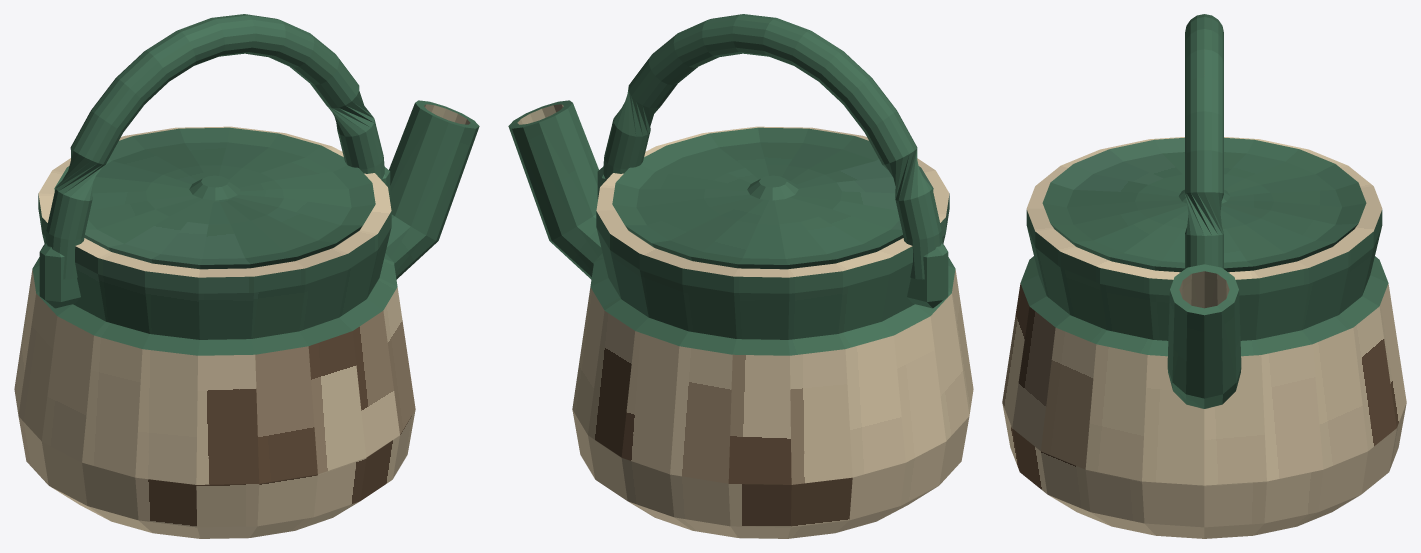
Rendered from antique-oribe-ewer.glb.
3 renders of one model, left to right at view 1: azimuth 30°, elevation 25°; view 2: azimuth 150°, elevation 25°; view 3: azimuth 270°, elevation 25°, orthographic.
Visible parts, largest first — view 1: antique-oribe-ewer/vessel-3, antique-oribe-ewer/bail-handle, antique-oribe-ewer/lid-4, antique-oribe-ewer/vessel-2, antique-oribe-ewer/vessel-5, antique-oribe-ewer/spout-outer, antique-oribe-ewer/lid-3, antique-oribe-ewer/vessel-4, antique-oribe-ewer/lid-5, antique-oribe-ewer/vessel-6, antique-oribe-ewer/vessel-7, antique-oribe-ewer/vessel-1 (+3 smaller); view 2: antique-oribe-ewer/vessel-3, antique-oribe-ewer/bail-handle, antique-oribe-ewer/lid-4, antique-oribe-ewer/vessel-2, antique-oribe-ewer/vessel-5, antique-oribe-ewer/spout-outer, antique-oribe-ewer/lid-3, antique-oribe-ewer/vessel-4, antique-oribe-ewer/lid-5, antique-oribe-ewer/vessel-6, antique-oribe-ewer/vessel-7, antique-oribe-ewer/vessel-1 (+3 smaller); view 3: antique-oribe-ewer/vessel-3, antique-oribe-ewer/vessel-2, antique-oribe-ewer/lid-4, antique-oribe-ewer/vessel-5, antique-oribe-ewer/bail-handle, antique-oribe-ewer/lid-3, antique-oribe-ewer/spout-outer, antique-oribe-ewer/vessel-4, antique-oribe-ewer/vessel-7, antique-oribe-ewer/vessel-6, antique-oribe-ewer/lid-5, antique-oribe-ewer/vessel-1 (+3 smaller).
Boxes of the visible parts, <box> form: antique-oribe-ewer/vessel-3: <box>14,269,415,484</box>; antique-oribe-ewer/bail-handle: <box>45,14,384,279</box>; antique-oribe-ewer/lid-4: <box>88,142,351,258</box>; antique-oribe-ewer/vessel-2: <box>18,410,415,527</box>; antique-oribe-ewer/vessel-5: <box>42,228,391,339</box>; antique-oribe-ewer/spout-outer: <box>385,103,479,279</box>; antique-oribe-ewer/lid-3: <box>54,127,375,264</box>; antique-oribe-ewer/vessel-4: <box>32,253,397,355</box>; antique-oribe-ewer/lid-5: <box>146,165,283,224</box>; antique-oribe-ewer/vessel-6: <box>38,193,391,293</box>; antique-oribe-ewer/vessel-7: <box>38,126,391,277</box>; antique-oribe-ewer/vessel-1: <box>50,486,359,538</box>; antique-oribe-ewer/vessel-3: <box>572,269,973,484</box>; antique-oribe-ewer/bail-handle: <box>603,14,942,279</box>; antique-oribe-ewer/lid-4: <box>636,142,899,258</box>; antique-oribe-ewer/vessel-2: <box>572,410,969,527</box>; antique-oribe-ewer/vessel-5: <box>596,228,945,339</box>; antique-oribe-ewer/spout-outer: <box>508,103,602,279</box>; antique-oribe-ewer/lid-3: <box>612,127,933,264</box>; antique-oribe-ewer/vessel-4: <box>590,253,955,355</box>; antique-oribe-ewer/lid-5: <box>704,165,841,224</box>; antique-oribe-ewer/vessel-6: <box>596,193,949,293</box>; antique-oribe-ewer/vessel-7: <box>596,126,949,277</box>; antique-oribe-ewer/vessel-1: <box>628,486,937,538</box>; antique-oribe-ewer/vessel-3: <box>1002,283,1406,485</box>; antique-oribe-ewer/vessel-2: <box>1002,403,1406,527</box>; antique-oribe-ewer/lid-4: <box>1067,152,1341,262</box>; antique-oribe-ewer/vessel-5: <box>1027,226,1381,340</box>; antique-oribe-ewer/bail-handle: <box>1185,14,1223,268</box>; antique-oribe-ewer/lid-3: <box>1042,137,1366,268</box>; antique-oribe-ewer/spout-outer: <box>1167,290,1241,408</box>; antique-oribe-ewer/vessel-4: <box>1020,256,1388,356</box>; antique-oribe-ewer/vessel-7: <box>1026,137,1382,279</box>; antique-oribe-ewer/vessel-6: <box>1026,210,1382,295</box>; antique-oribe-ewer/lid-5: <box>1135,174,1273,228</box>; antique-oribe-ewer/vessel-1: <box>1048,495,1360,538</box>.
Bounding box in the file's own units: 0.625 × 0.625 × 0.5147.
4 materials, 4 textured.
